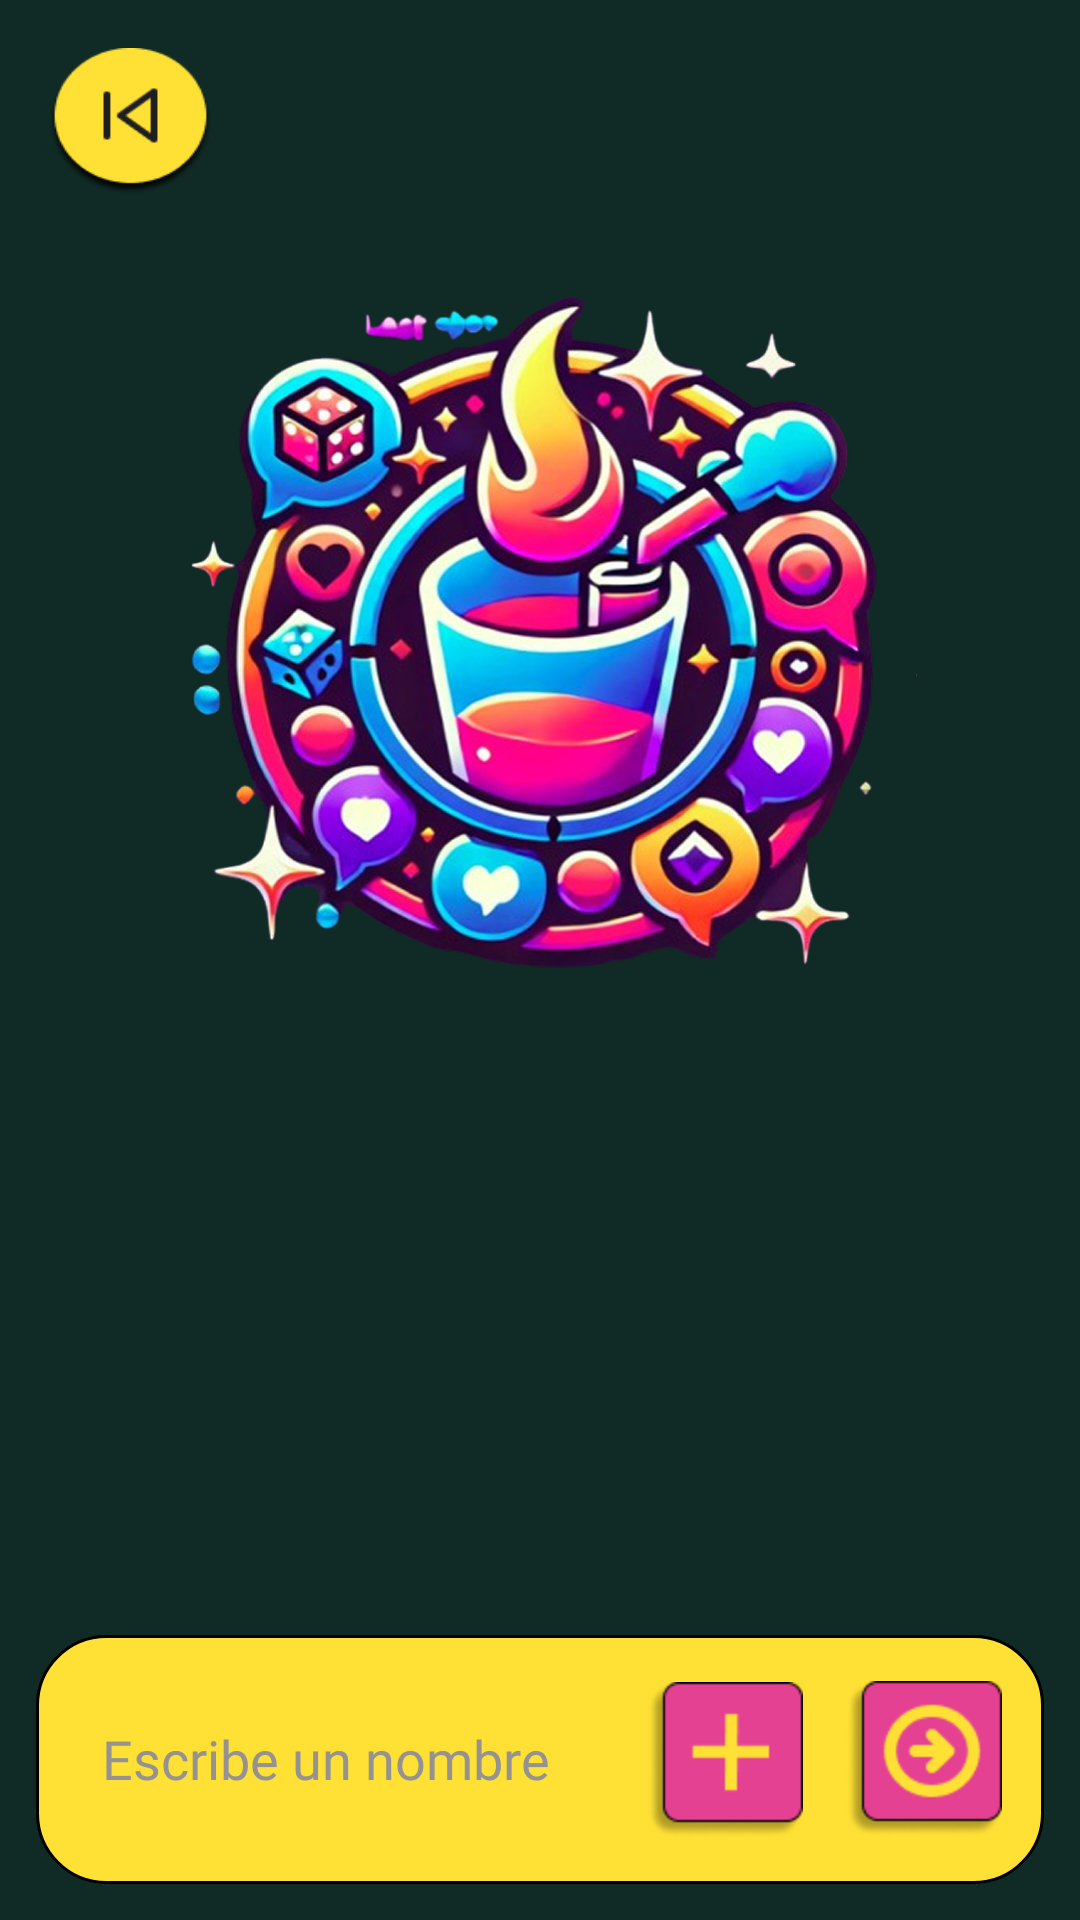

Point at icon controls on the screen. Image size 1080 × 1920, points as (x=x, y=y).
Añadir jugador: (x=728, y=1757)
Siguiente: (x=927, y=1756)
Volver a la pantalla anterior: (x=130, y=118)
